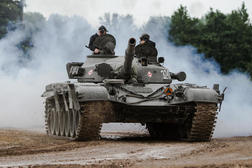t72: (45, 54, 220, 141)
